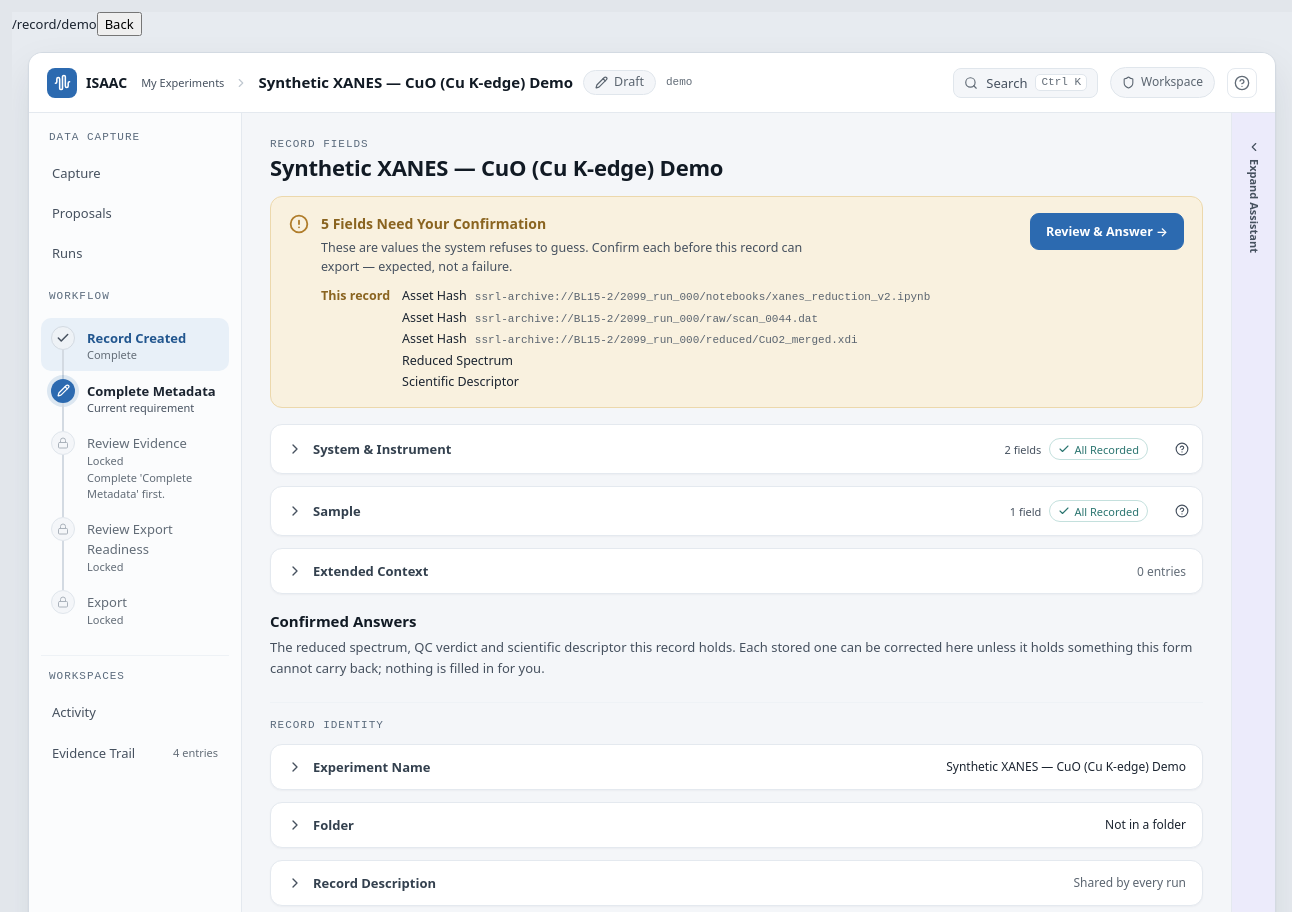
it: LIB-005 — reopen-and-continue: visiting a workspace remembers it › switching workspaces via the sidebar updates the remembered one
Check: the link "Activity" is shown, box [52,703,96,721]
Click the link "Runs".
click(67, 253)  # box [52,244,82,262]
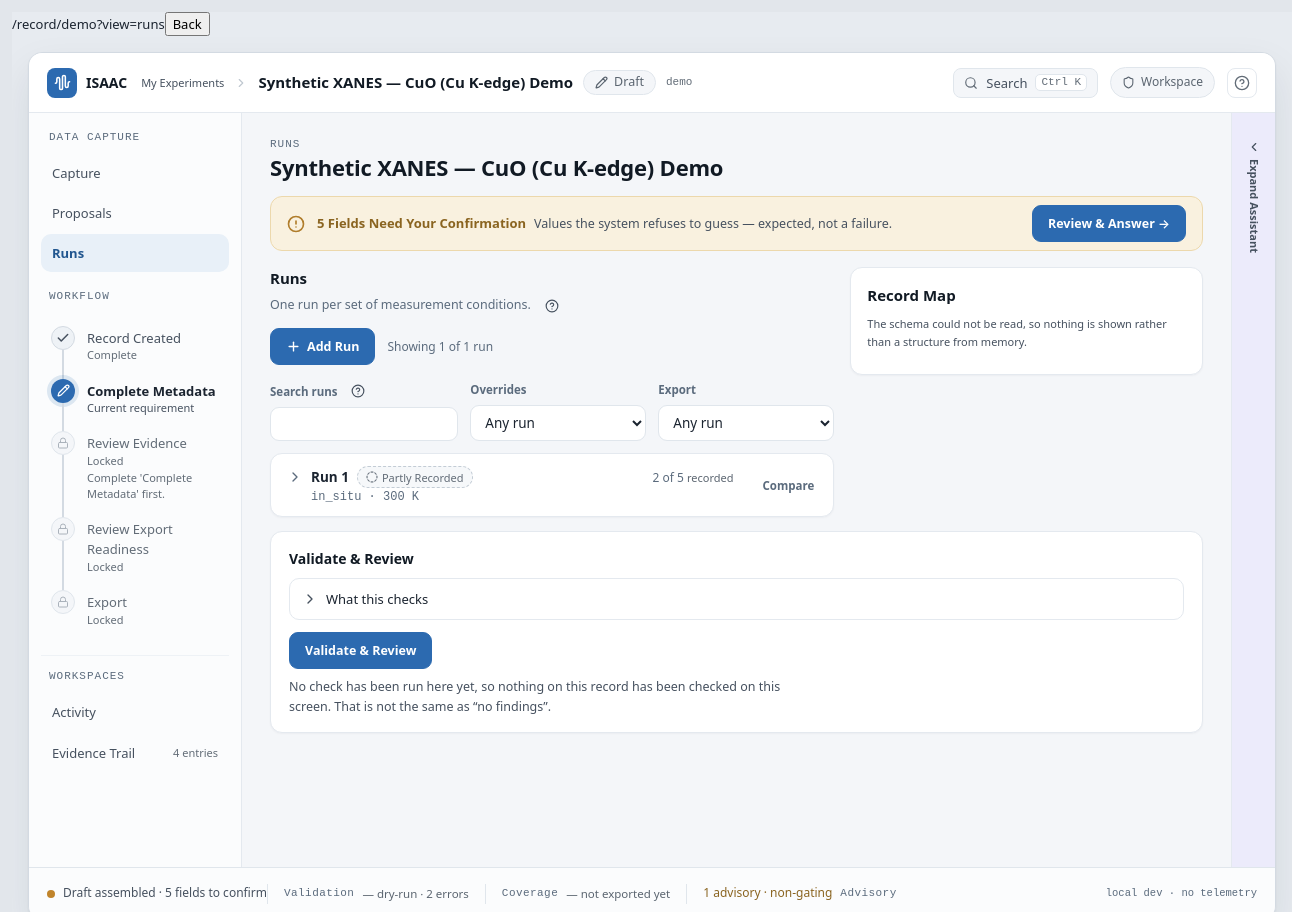
Check: the text with test id "address" shows "view=runs", box [12,15,165,33]
